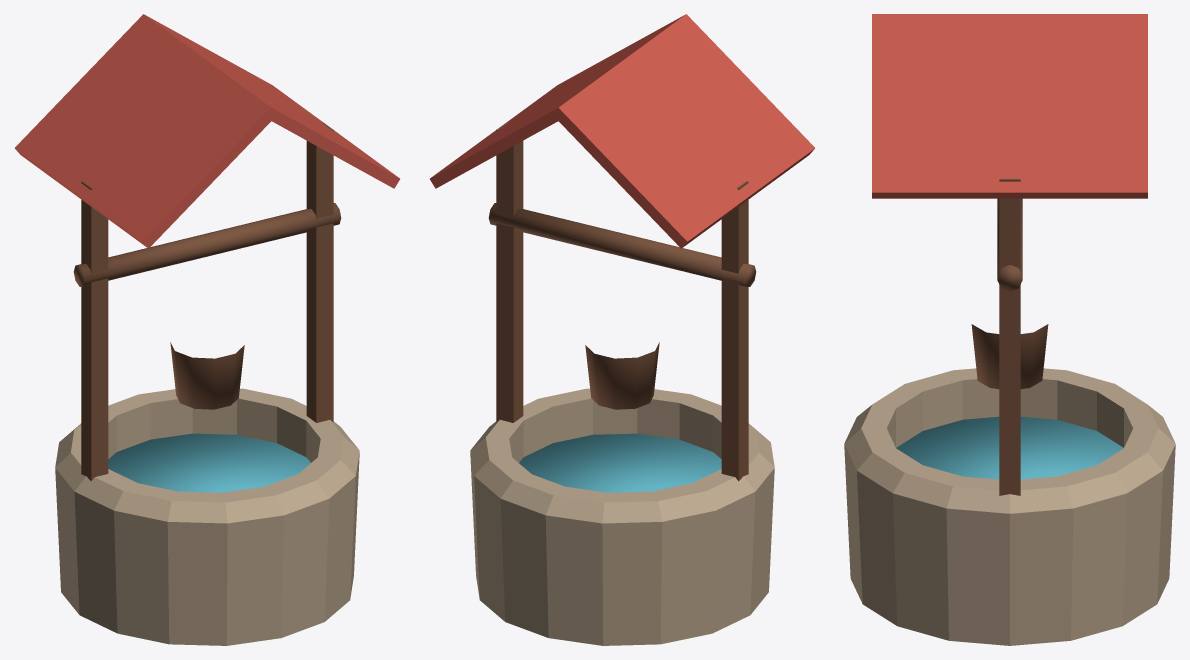
Rendered from well.glb.
The picture shows the model from 3 angles, left to right: view 1: azimuth 30°, elevation 25°; view 2: azimuth 150°, elevation 25°; view 3: azimuth 270°, elevation 25°; orthographic projection. The views are drawn at different scales.
Parts seen in each view (by area): view 1: well; view 2: well; view 3: well.
Boxes of the visible parts, x1,y1,x2,y2 form: well: [15, 14, 399, 645]; well: [430, 14, 814, 645]; well: [844, 14, 1175, 645].
Bounding box in the file's own units: 1.56 × 2.93 × 1.56.
